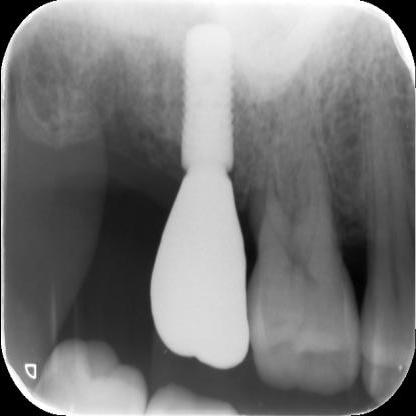ITI: (171, 17, 240, 173)
